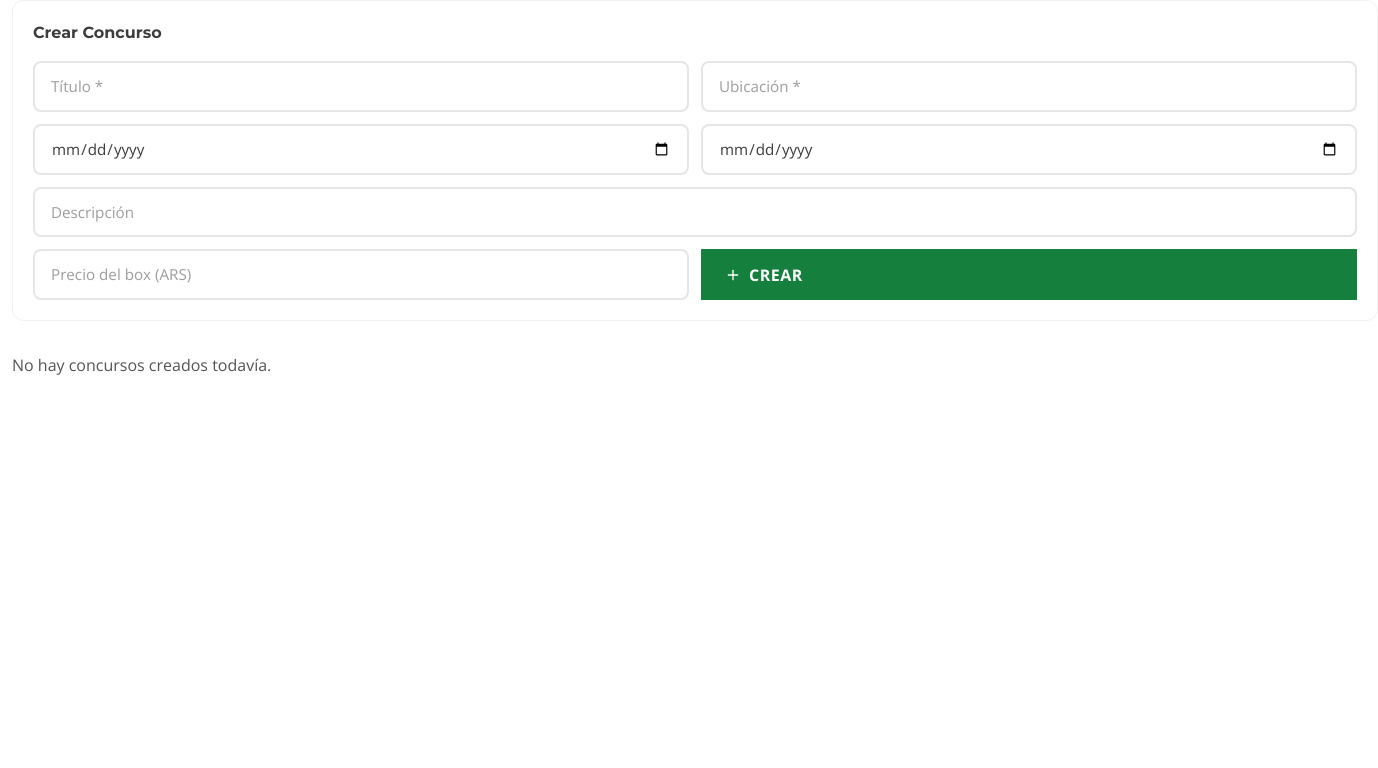
AnteprogramaTab › creates a new competition and selects it
Step 1. Type "Concurso Nuevo" into the field with placeholder "Título *" → x=361, y=86, box [33, 61, 689, 112]
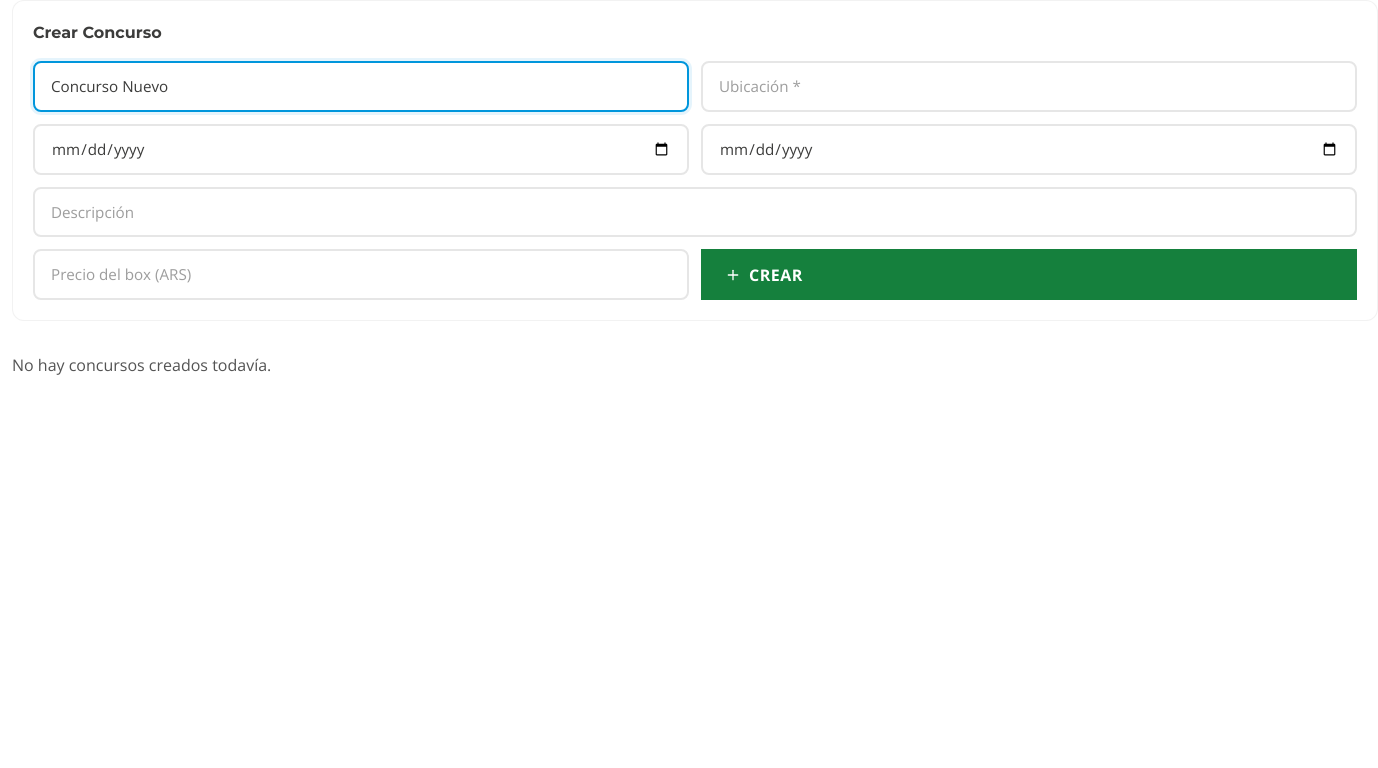
Step 2. Type "CHA" into the field with placeholder "Ubicación *" → x=1029, y=86, box [701, 61, 1357, 112]
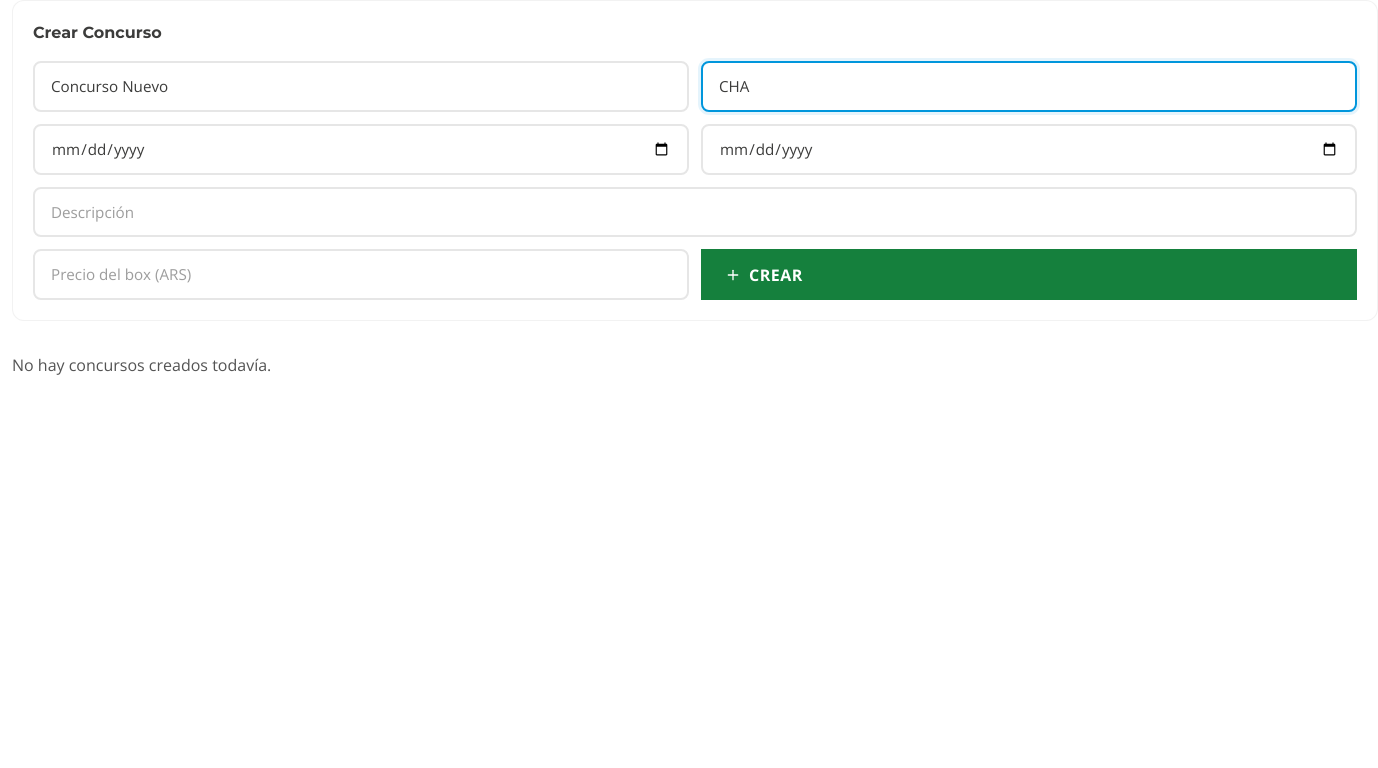
Step 3. Type "2026-10-01" into the date field with placeholder "Fecha desde *" → x=361, y=149, box [33, 124, 689, 175]
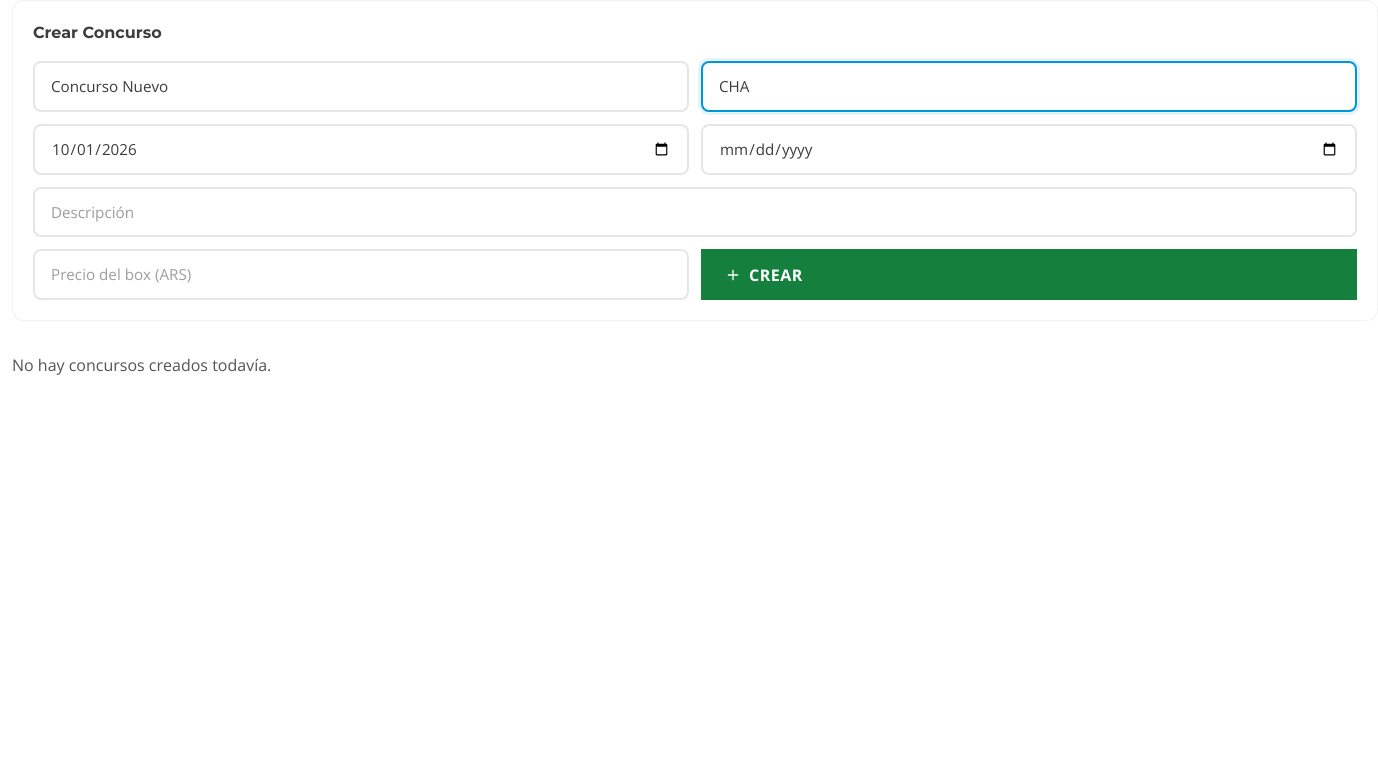
Step 4. Type "2026-10-02" into the date field with placeholder "Fecha hasta *" → x=1029, y=149, box [701, 124, 1357, 175]
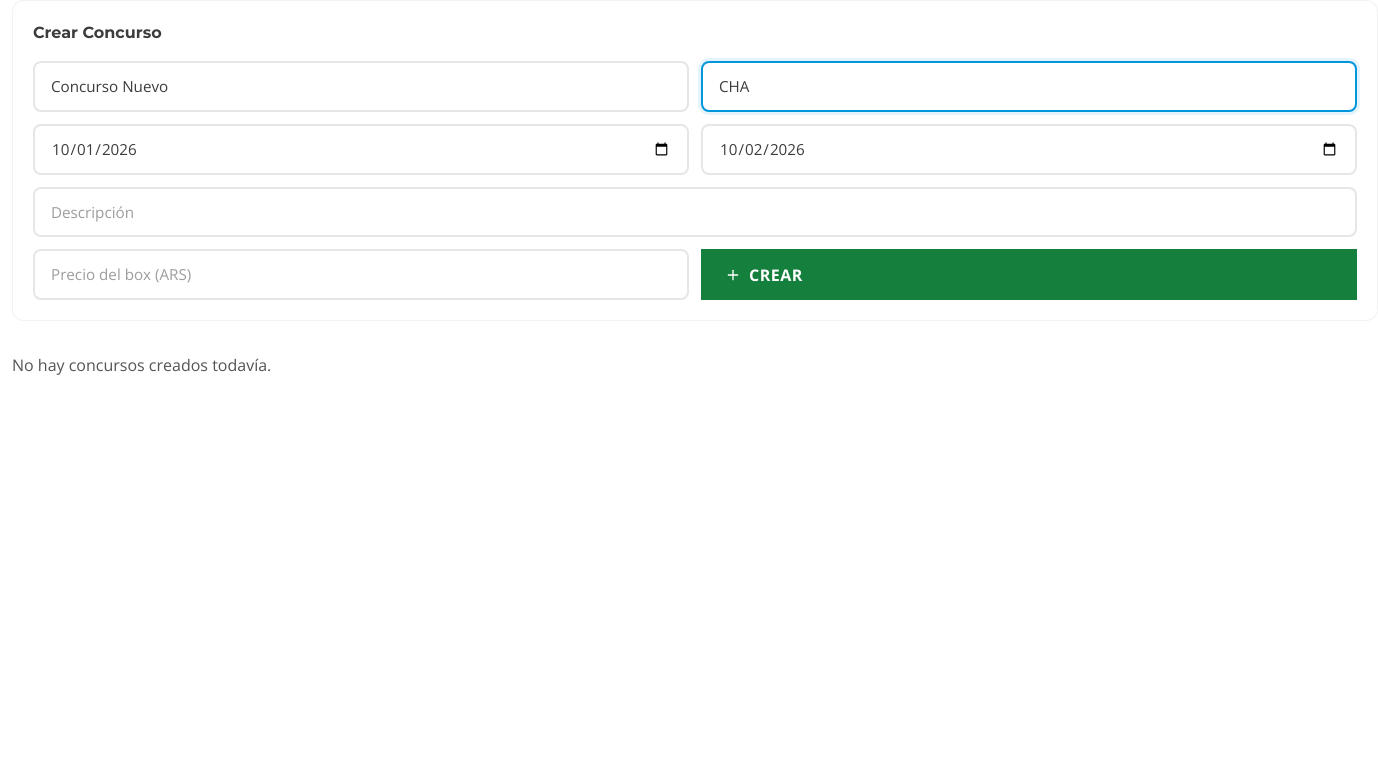
Step 5. Click the button "Crear" → x=776, y=275, box [701, 249, 1357, 300]
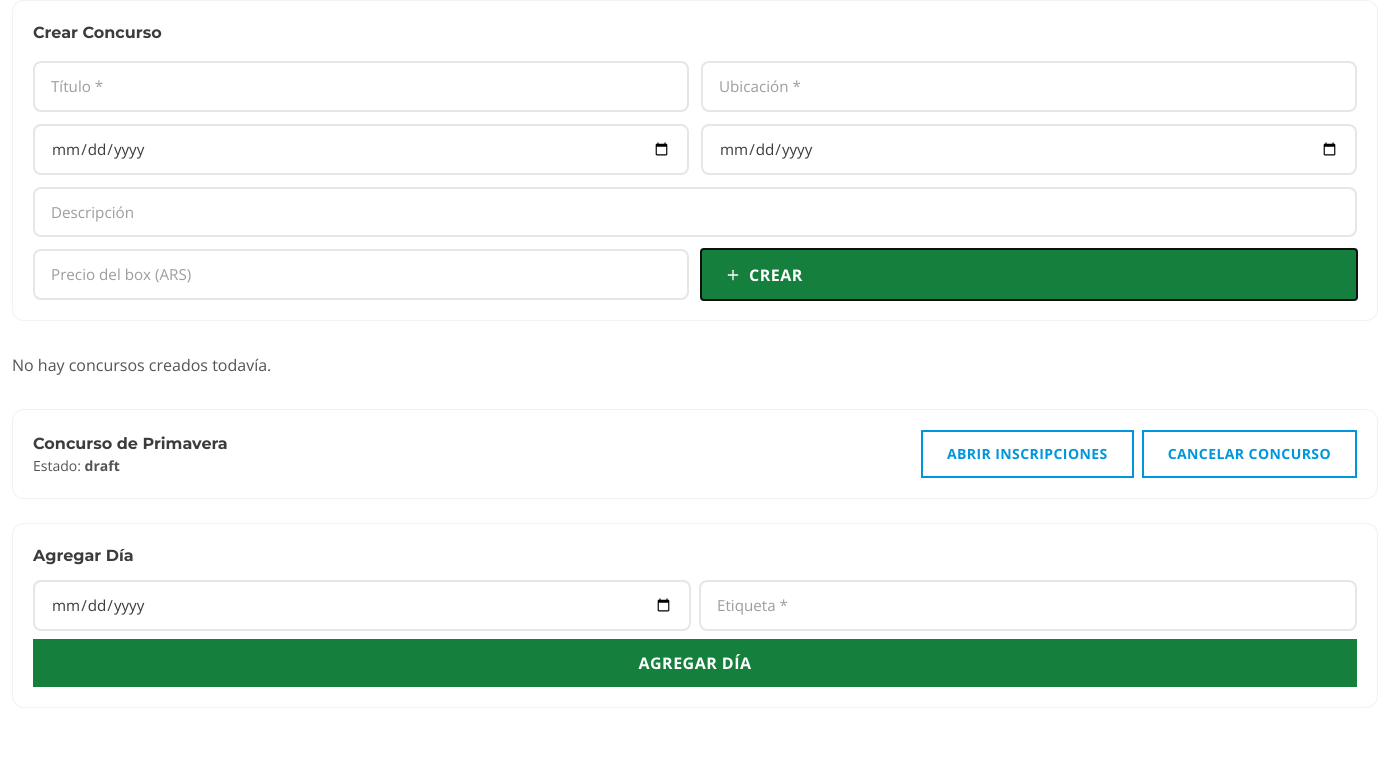
Expected: the text "Estado: draft" is shown, [33, 456, 120, 475]
